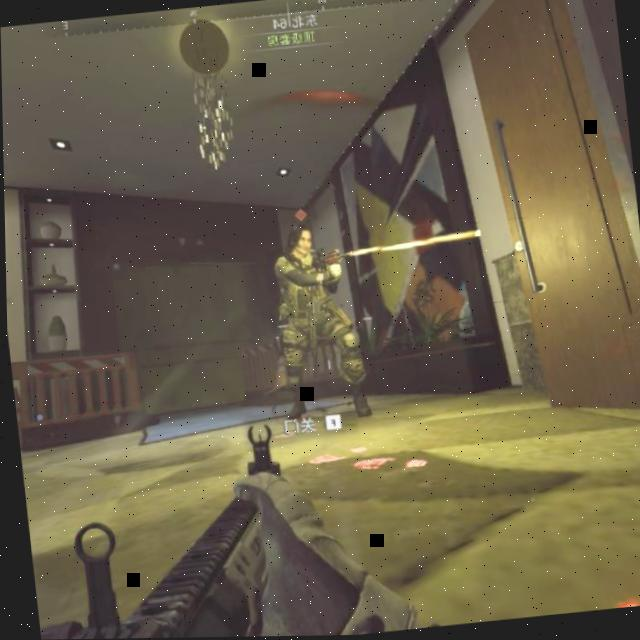MW2_body: (264, 205, 365, 421)
